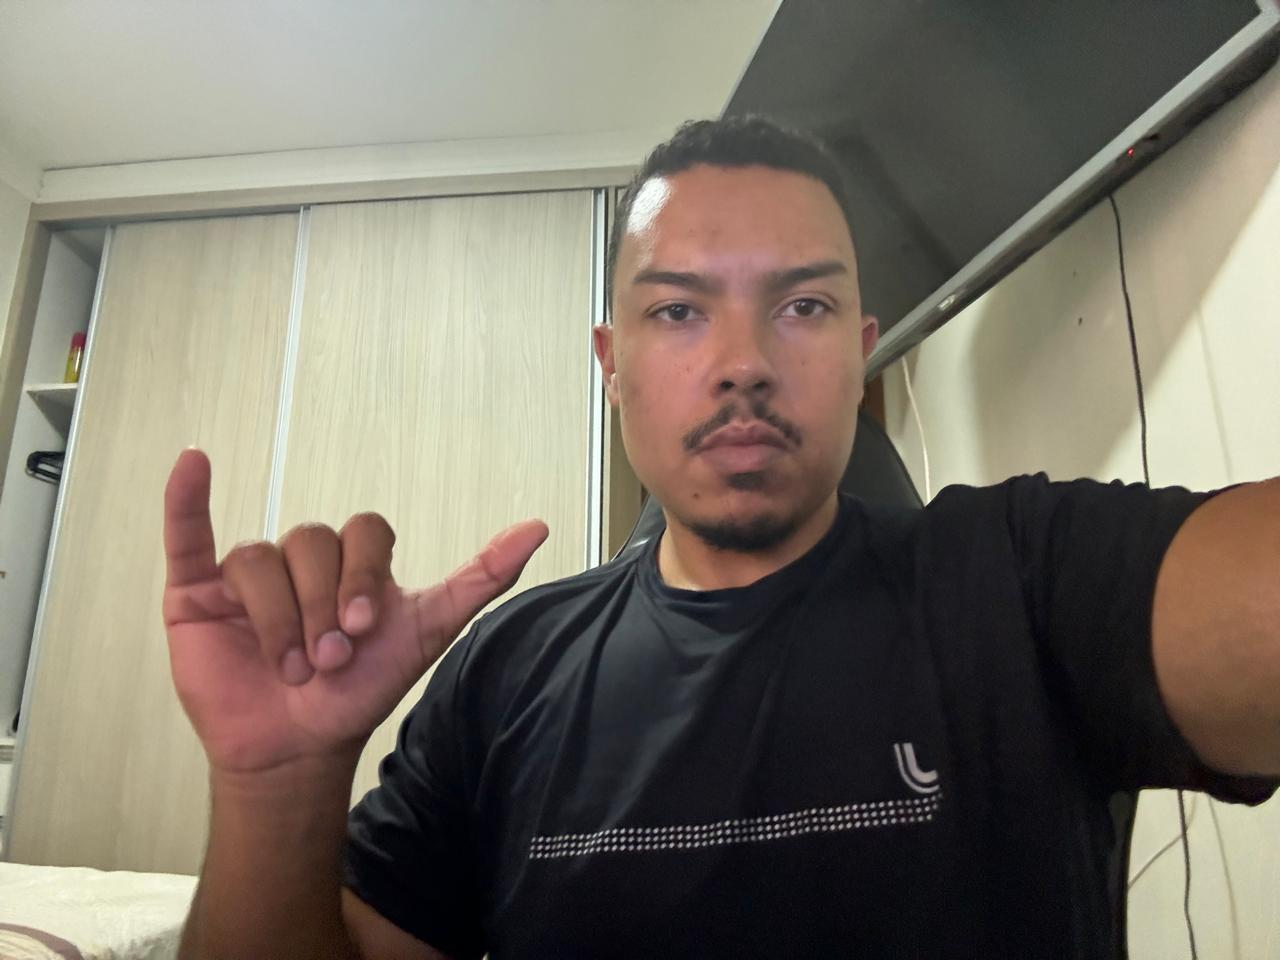y: (151, 438, 556, 779)
